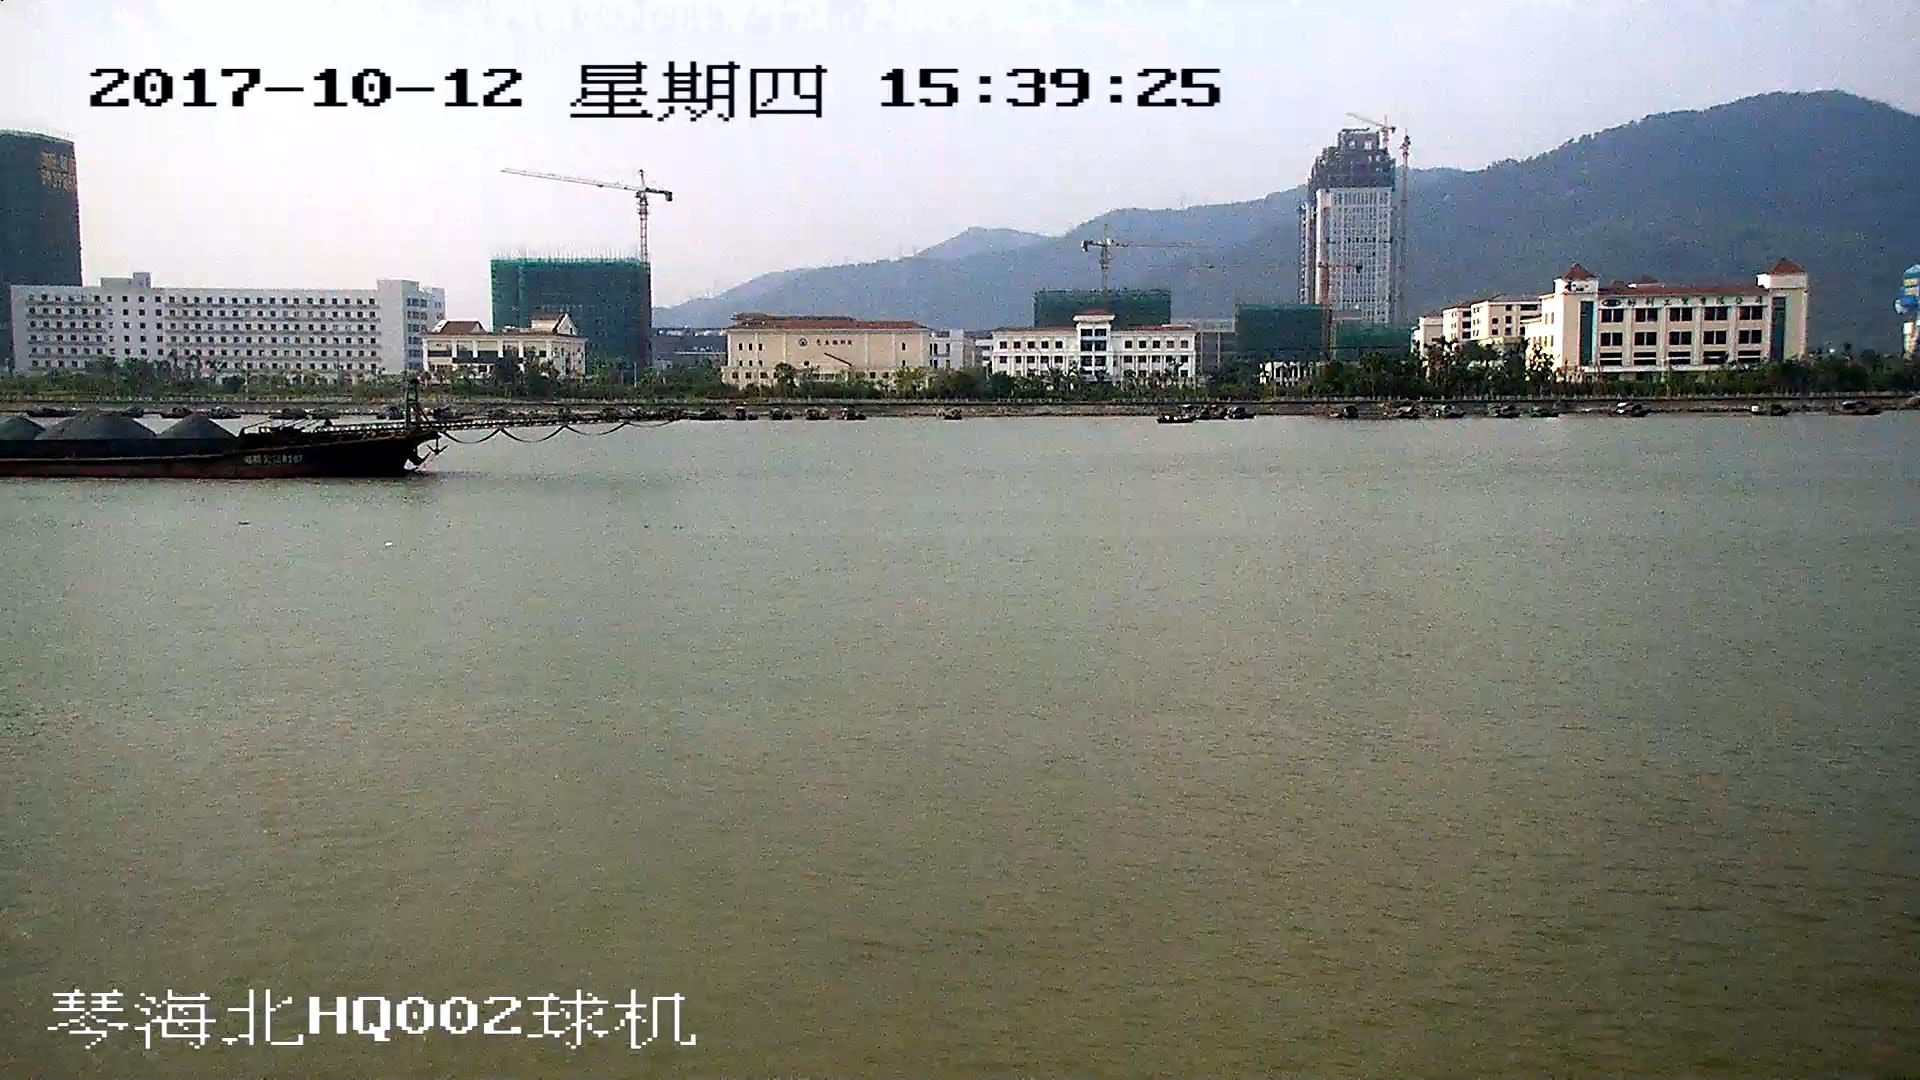ore carrier: (1, 367, 649, 480)
